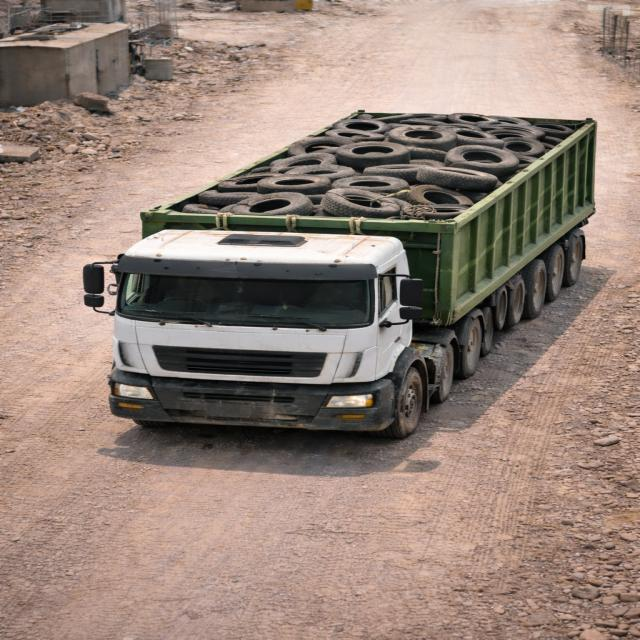trailer: (149, 113, 589, 223)
truck: (79, 104, 611, 438)
